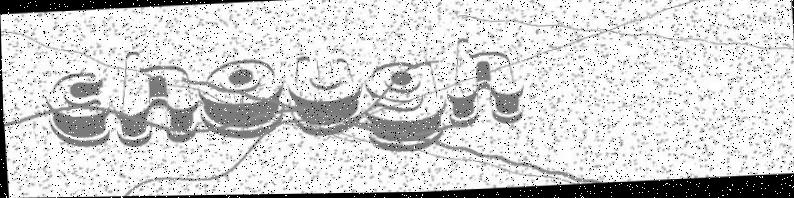c: (42, 70, 113, 150)
g: (360, 58, 449, 155)
h: (109, 46, 201, 149), (443, 35, 526, 129)
o: (195, 55, 287, 142)
u: (285, 52, 364, 139)
